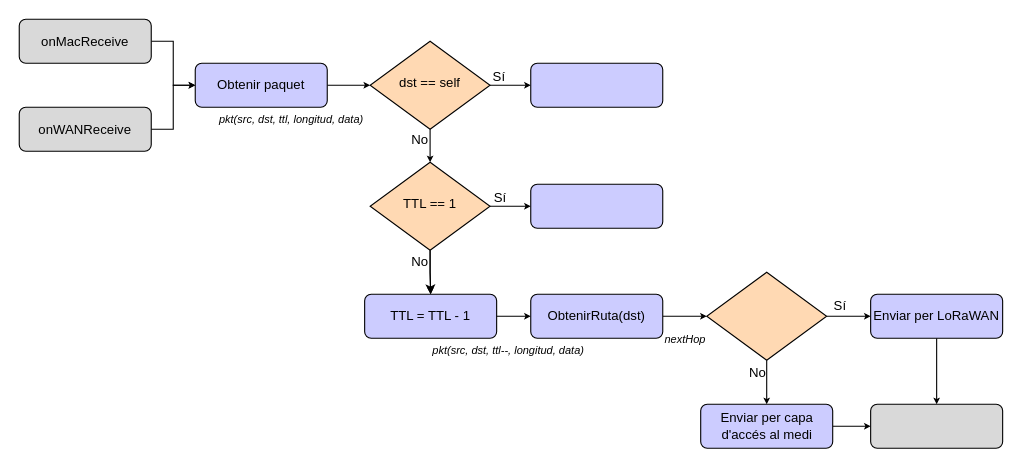
This 1022x468 diagram has some shape labels left out. The centre of each missing label's shape, as x and y in pixels:
"Descartar paquet" belongs at point 596,205.
"Fi" belongs at point 936,425.
"next == GW" belongs at point 766,315.
"Notificar recepció" belongs at point 596,84.
